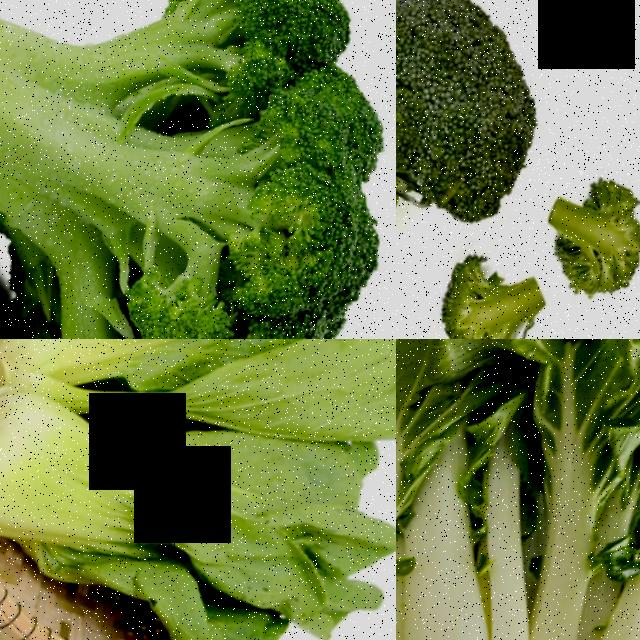bok choy: (0, 349, 341, 640), (401, 339, 640, 640), (396, 339, 611, 640), (0, 339, 396, 429)
broccoli: (0, 0, 396, 339), (396, 0, 603, 255), (502, 113, 640, 339), (417, 212, 603, 339)
